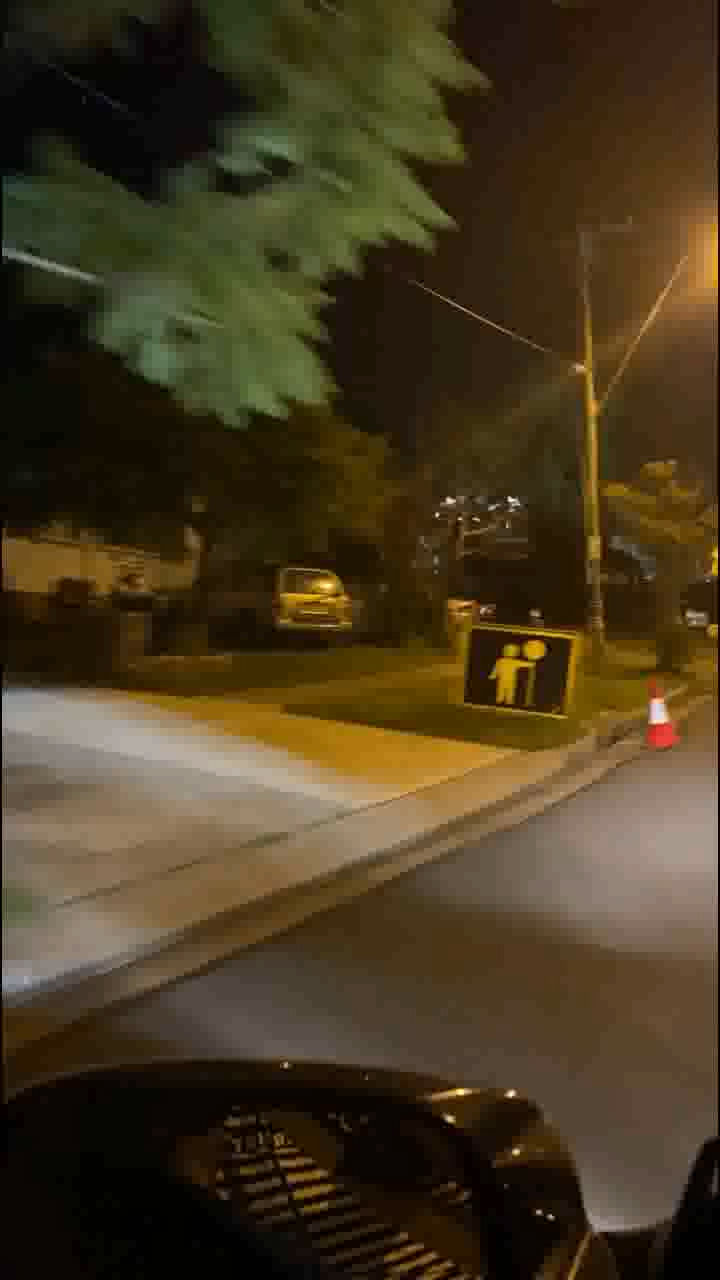prepare to stop board: (454, 625, 565, 725)
road cone: (640, 675, 685, 753)
